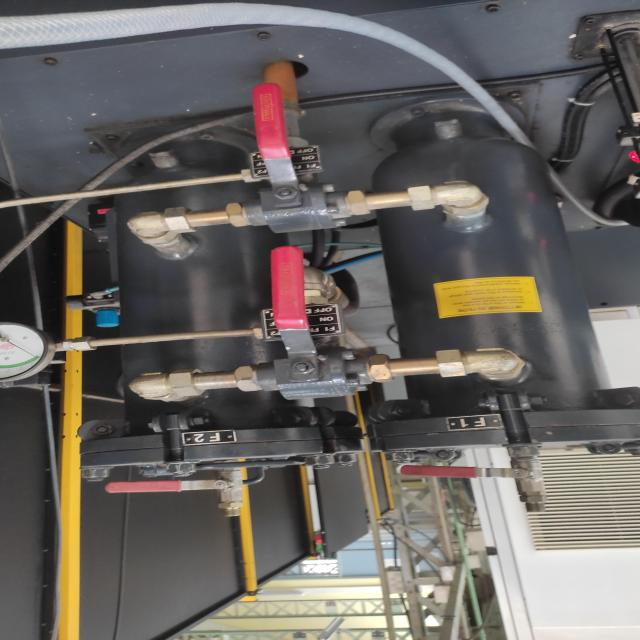closed_valve: (225, 243, 391, 400), (220, 81, 367, 232), (399, 459, 559, 498), (105, 470, 255, 504)
